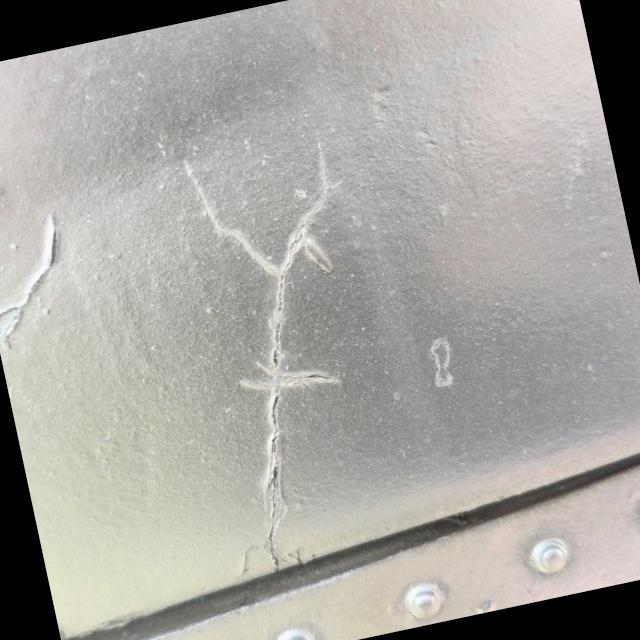crack: (160, 100, 443, 581)
